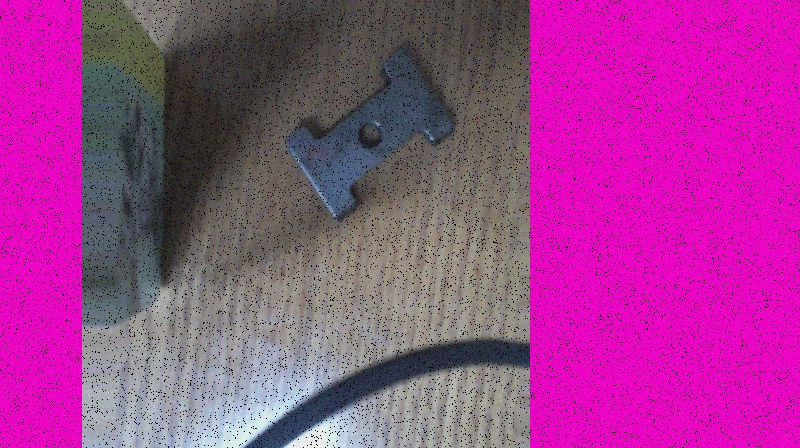O002: (284, 39, 456, 226)
